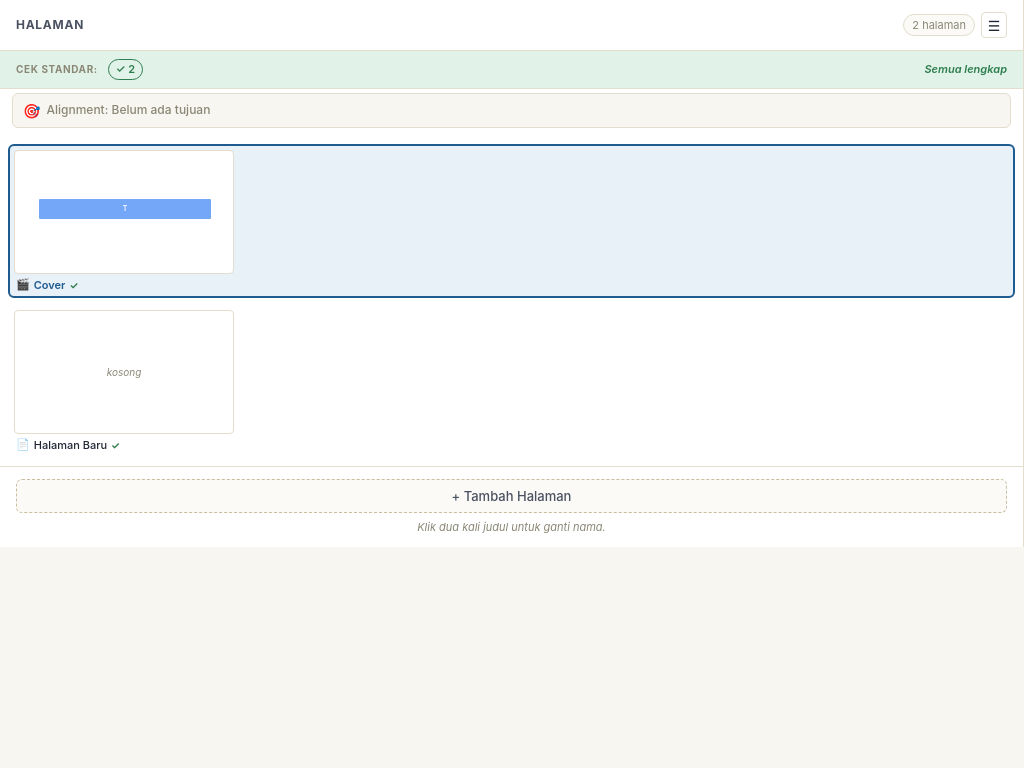
Scenario: scope-lock M4 — PagePanel: HAS M3 controls (rename/duplicate/delete) › PagePanel renders a rename button (M3 active, in list view)
Switch to list view (default is thumbnail)
Click the button with test id "page-panel-view-toggle": (994, 25) [981, 12, 1007, 38]
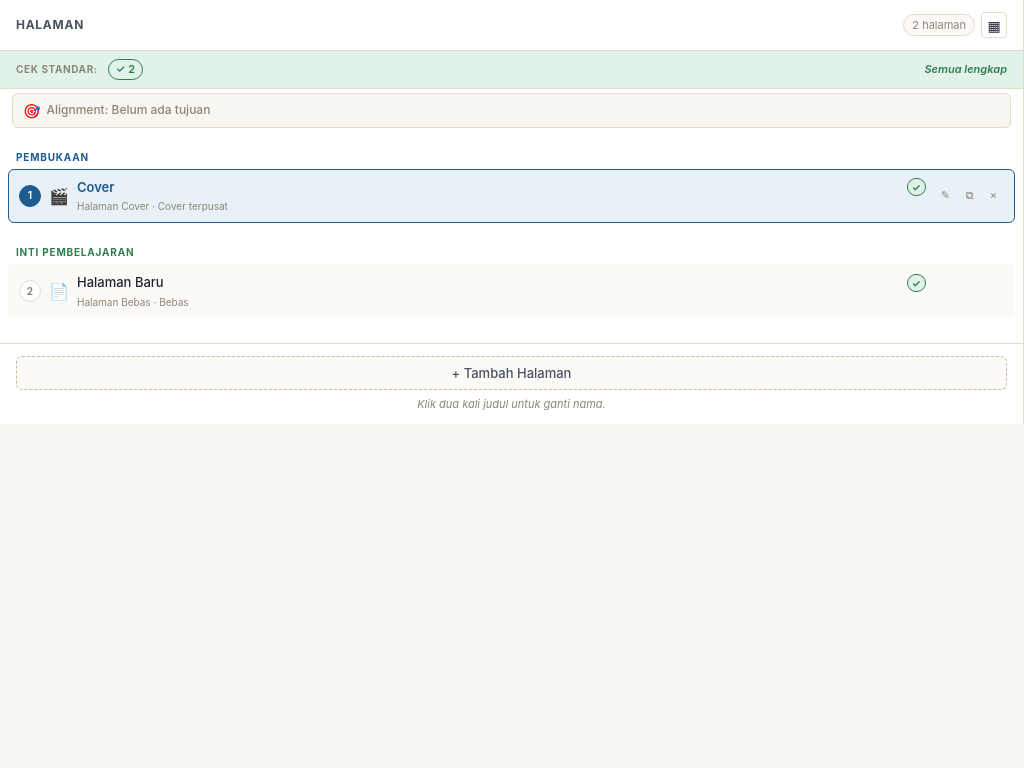
Check: the button titled "Ganti nama halaman" is shown, box [934, 187, 957, 204]
